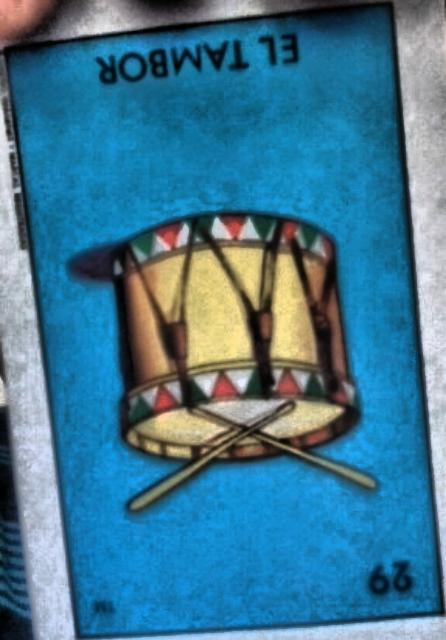El Tambor: (10, 6, 444, 633)
